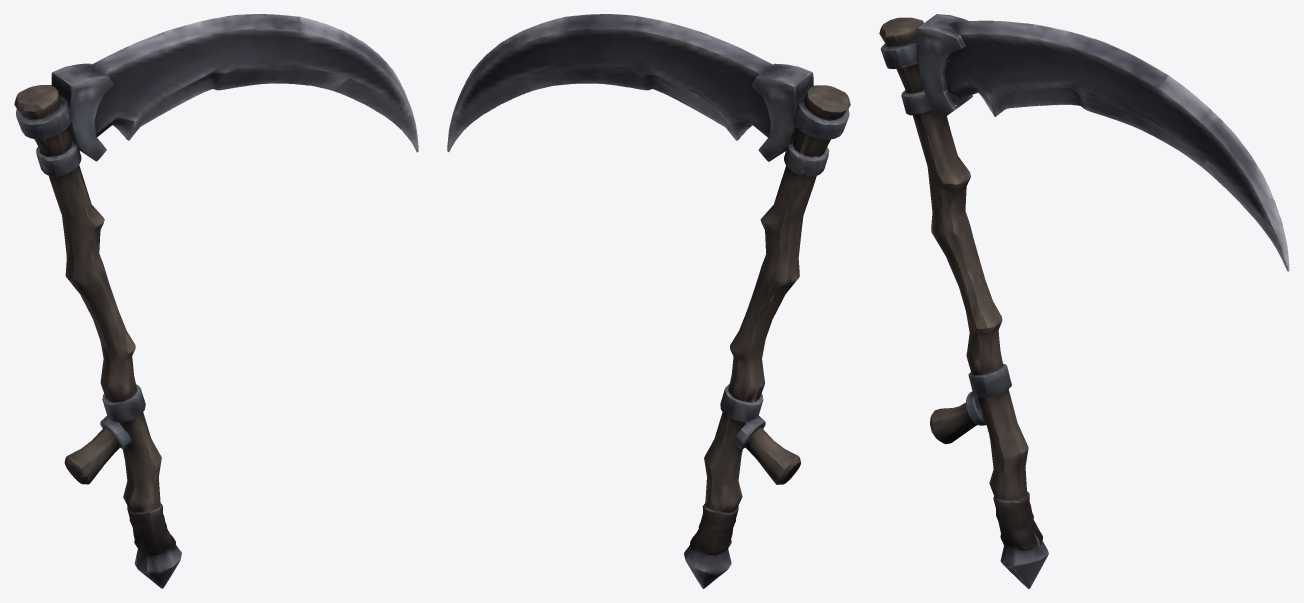
File: foice.glb
3 views of the same model, side by side, from view 1: azimuth 30°, elevation 25°; view 2: azimuth 150°, elevation 25°; view 3: azimuth 330°, elevation 25° (orthographic).
Visible parts, largest first — view 1: world; view 2: world; view 3: world.
Part boxes in pixels (x1,y1,x2,y2): world: [14, 14, 418, 588]; world: [447, 14, 850, 588]; world: [879, 14, 1289, 588].
Bounding box in the file's own units: 1.43 × 1.9 × 0.1697.
Materials: 1 (1 with a texture image).
